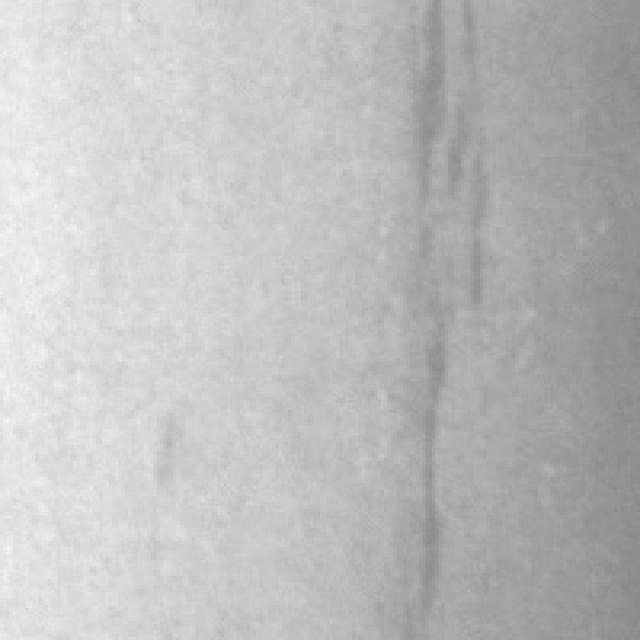inclusion: (371, 0, 499, 474), (384, 310, 458, 630)
